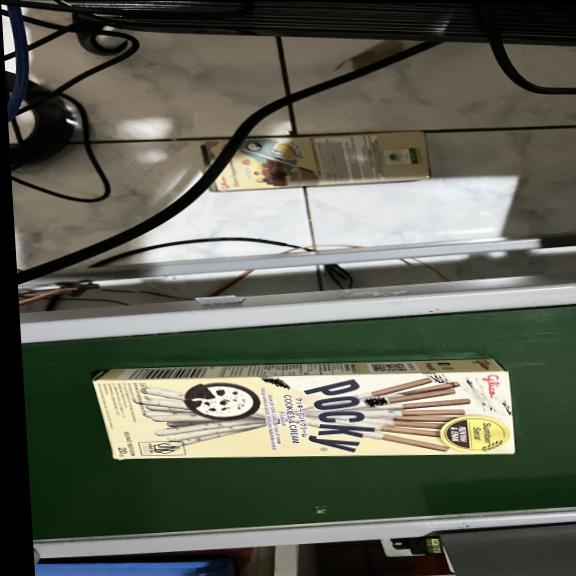Kertas: (86, 366, 516, 464)
